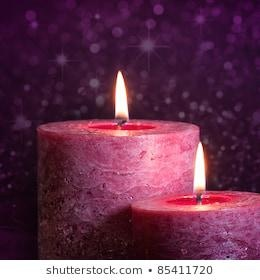fire: (112, 68, 129, 121), (194, 138, 207, 192)
